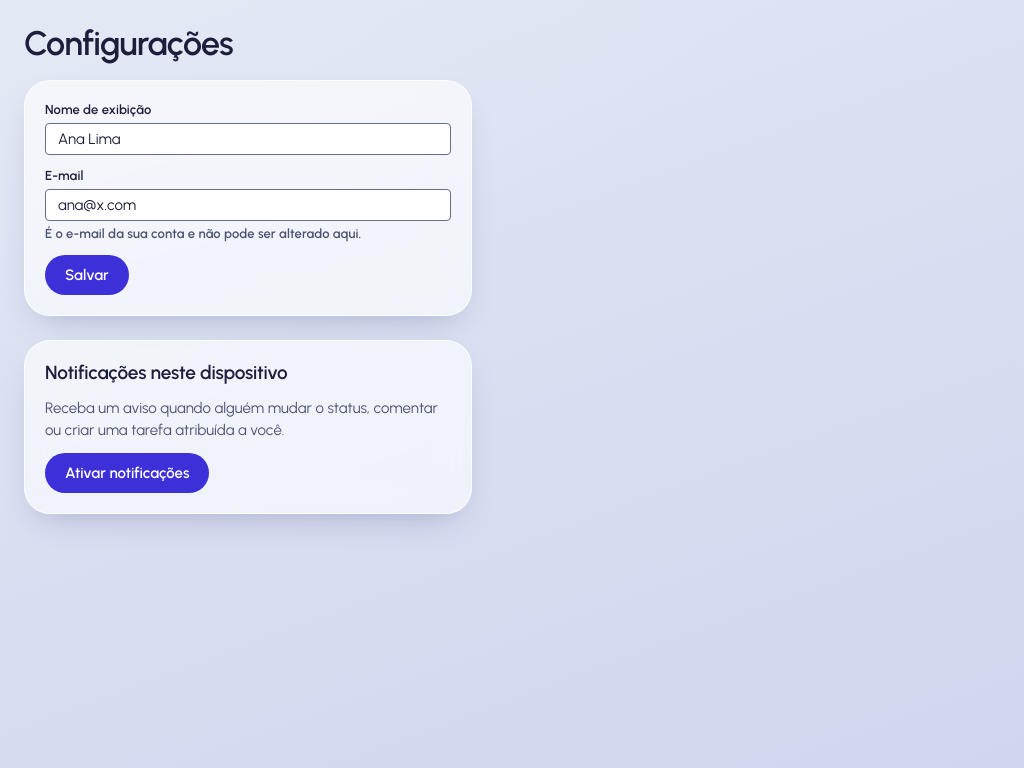
Test: ConfiguracoesPage › nome vazio não vai ao servidor e explica o problema
The width and height of the screenshot is (1024, 768).
Clear the field labelled "Nome de exibição". click: point(248, 139)
box: [45, 123, 451, 155]
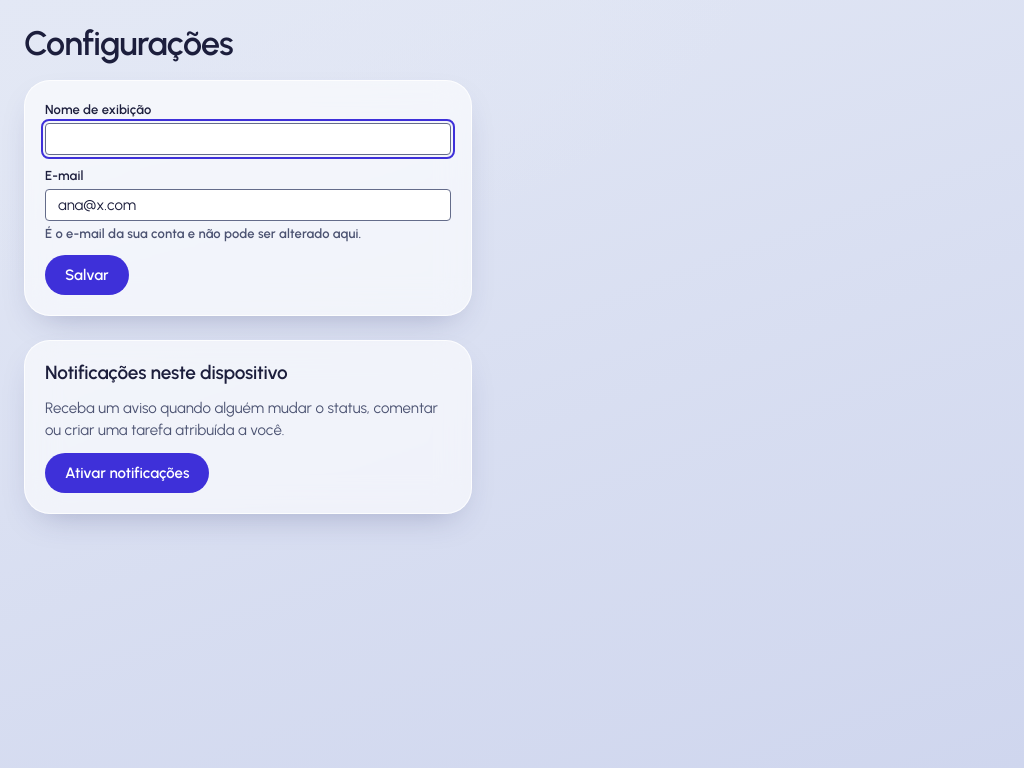
Click the button "Salvar". click: point(87, 275)
box: [45, 255, 129, 295]
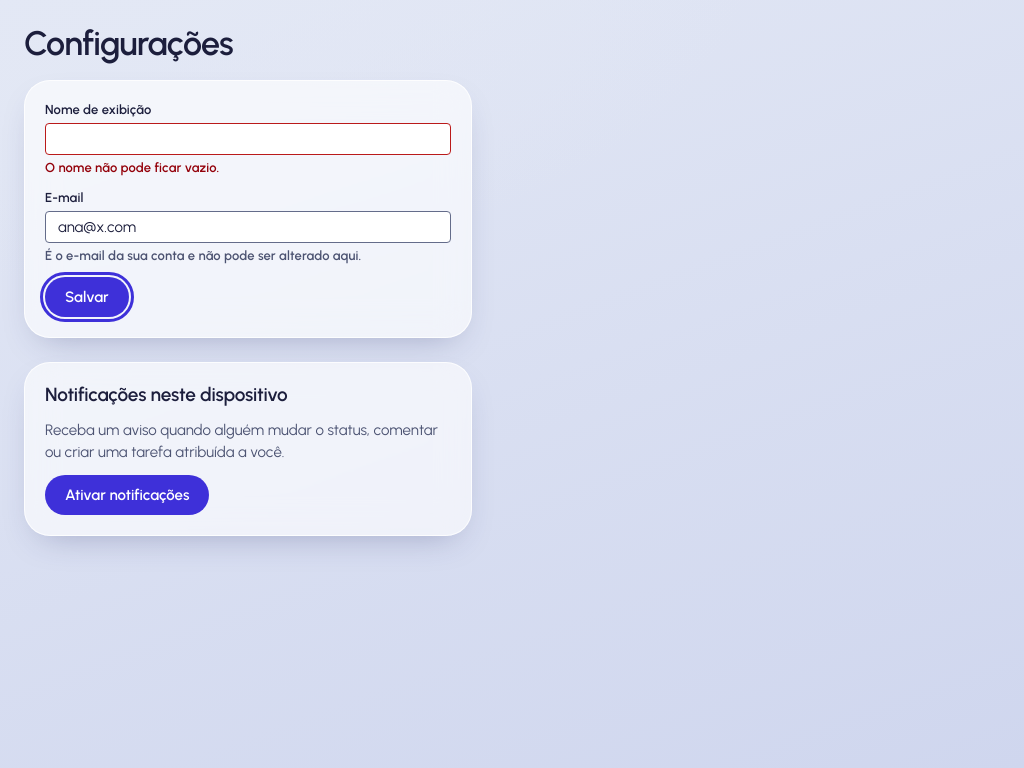
Check: the text "O nome não pode ficar vazio." is shown, box [45, 160, 219, 175]
